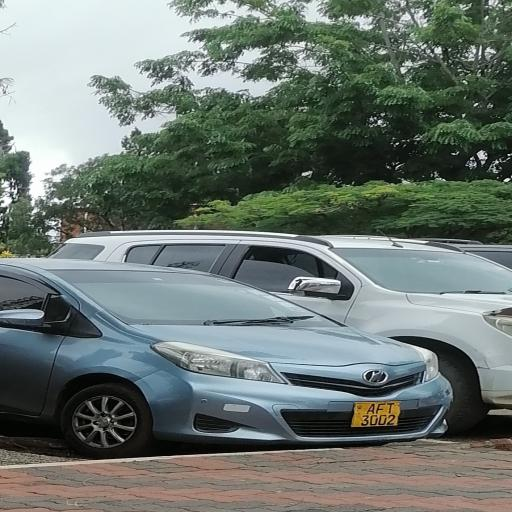number-plates: (350, 398, 407, 431)
